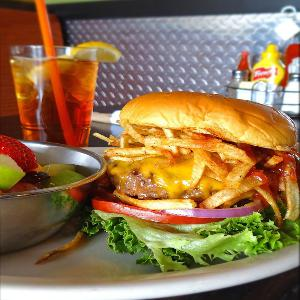cheeseburger: (111, 84, 299, 227)
